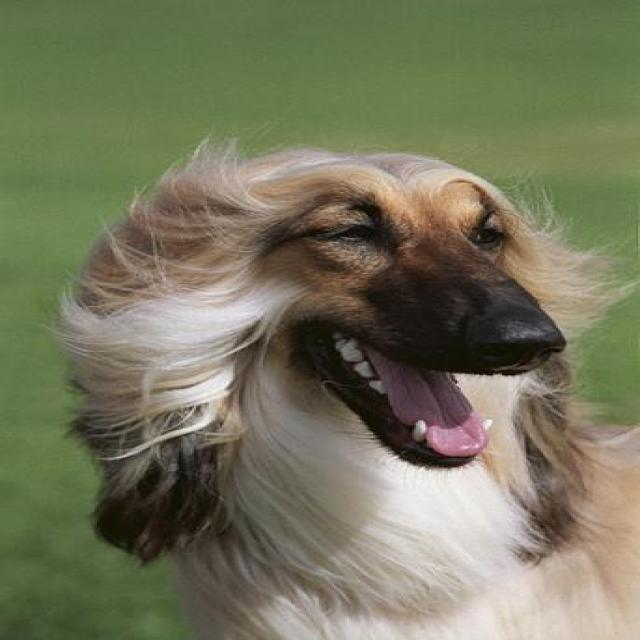afghan_hound: (43, 130, 636, 638)
